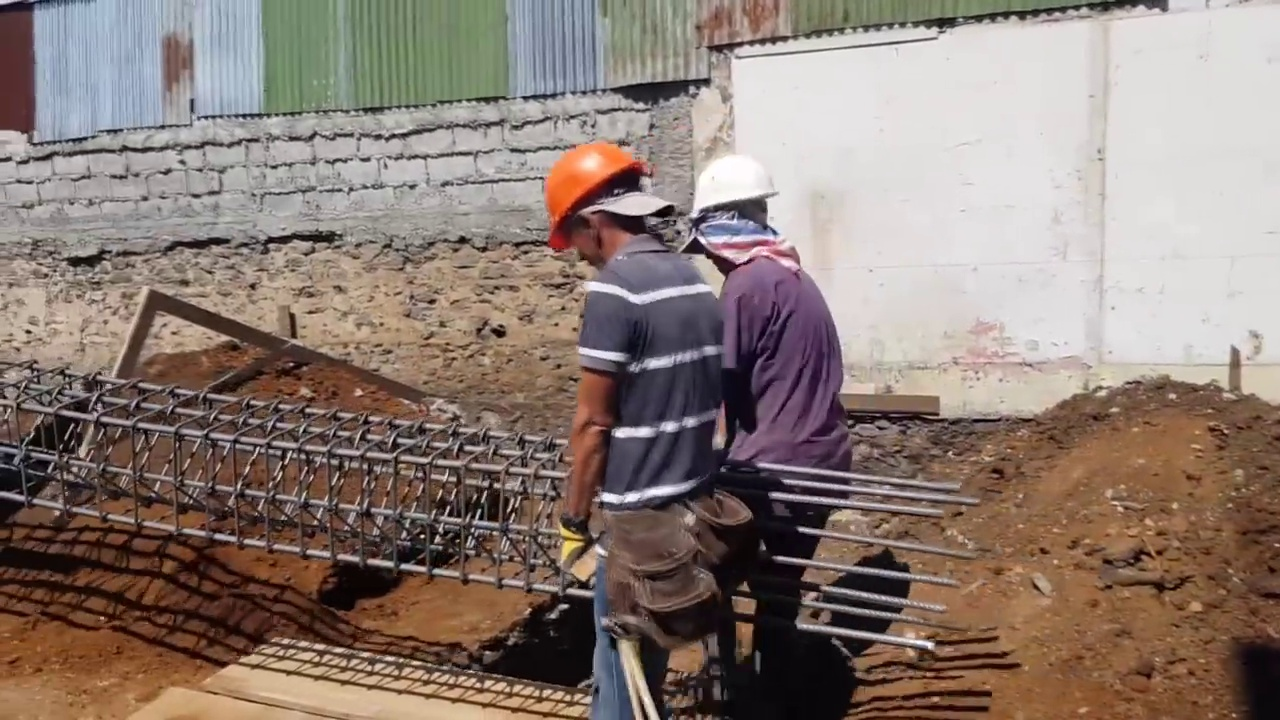helmet: (545, 145, 644, 252), (692, 158, 782, 214)
helmet-on: (543, 139, 660, 282), (691, 155, 781, 247)
person: (545, 159, 759, 718), (683, 149, 848, 692)
